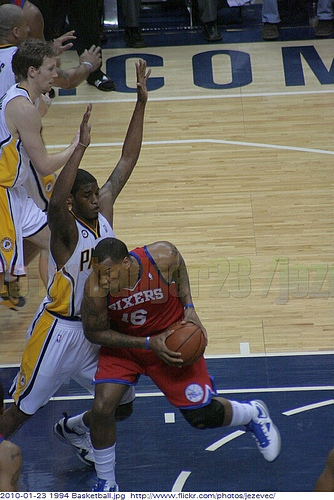basketball: (165, 323, 206, 365)
